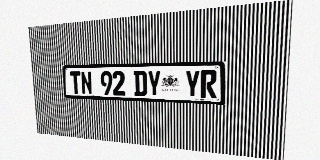2: (112, 71, 125, 96)
9: (100, 71, 113, 95)
D: (134, 71, 147, 96)
N: (80, 71, 92, 95)
R: (201, 70, 217, 98)
T: (70, 71, 81, 94)
Y: (185, 70, 200, 98), (147, 70, 161, 97)
